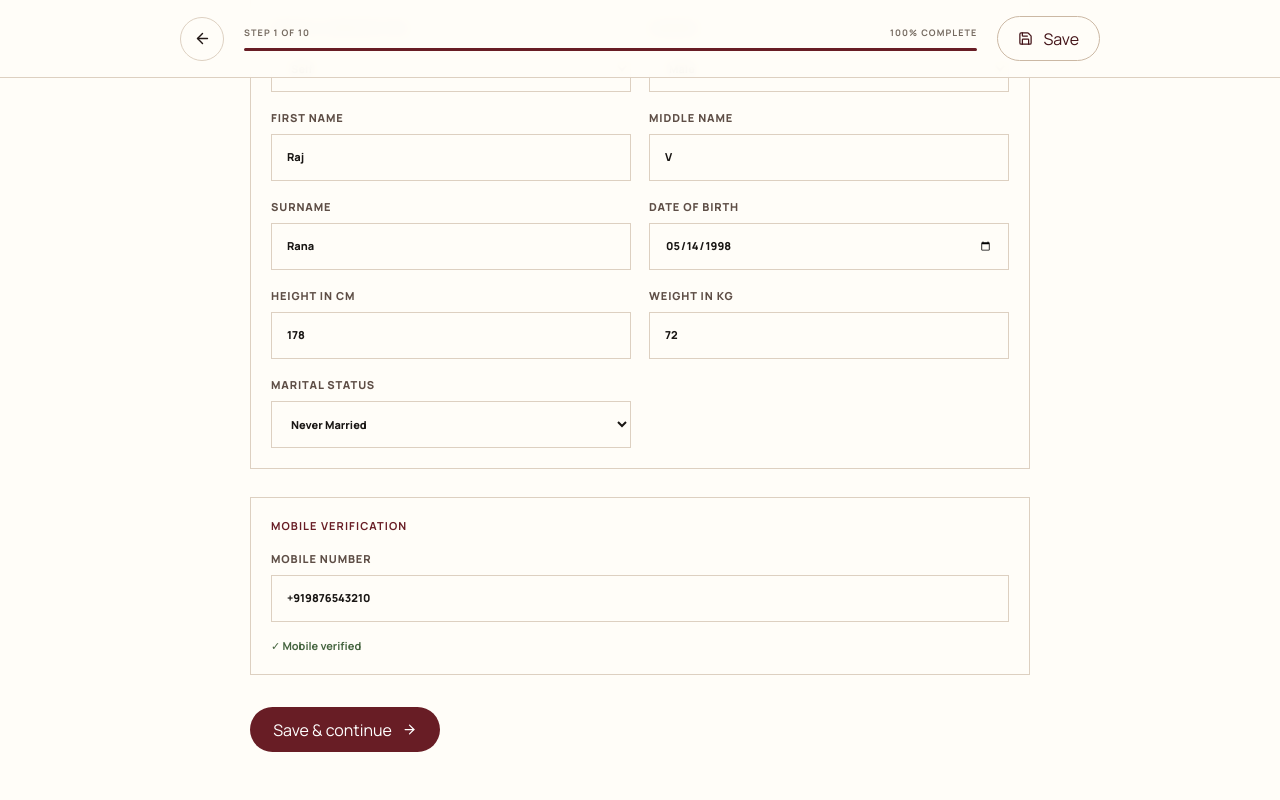
Test case: OnboardingPage profile flow › family and Mosal steps no longer render removed duplicate fields
The width and height of the screenshot is (1280, 800).
(page scrolled)
Click the button "Save & continue". click: (345, 730)
box: x1=250 y1=707 x2=440 y2=752
(page scrolled)
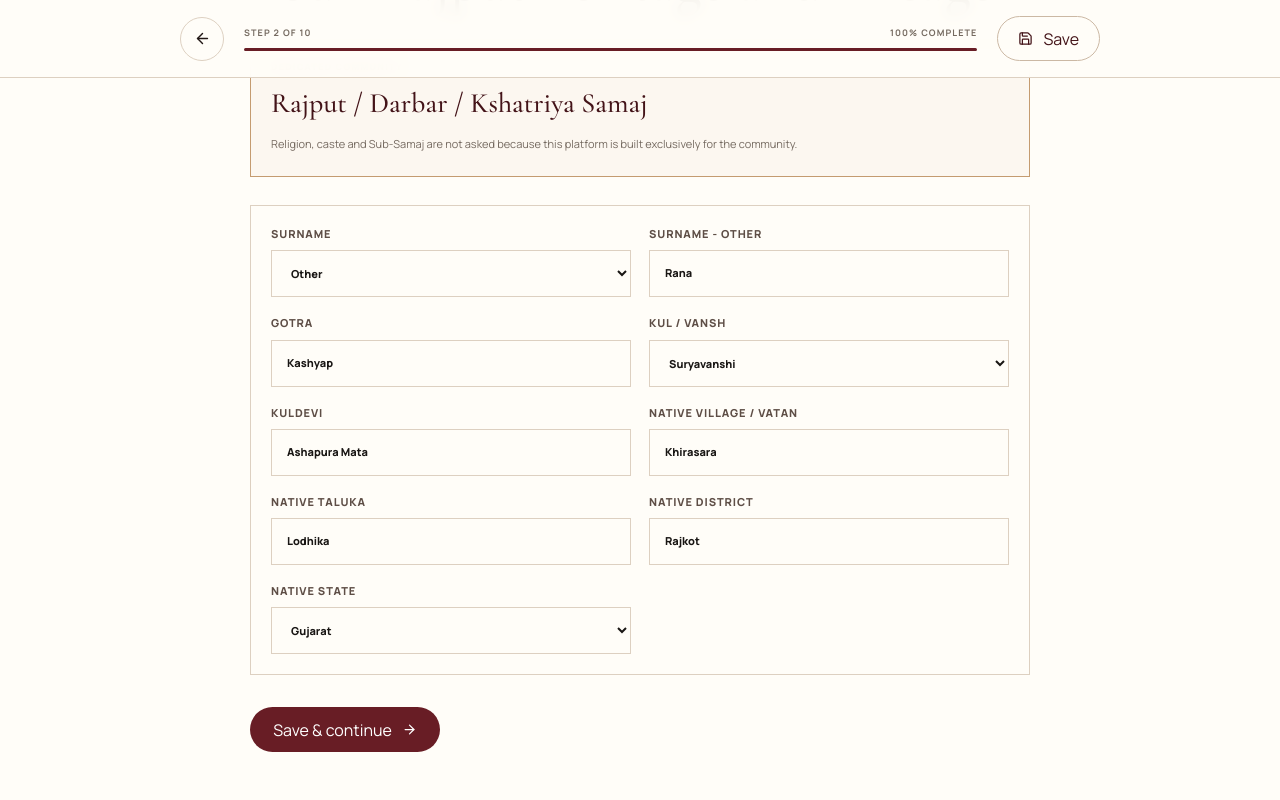
Click the button "Save & continue". click: (345, 730)
box: x1=250 y1=707 x2=440 y2=752
(page scrolled)
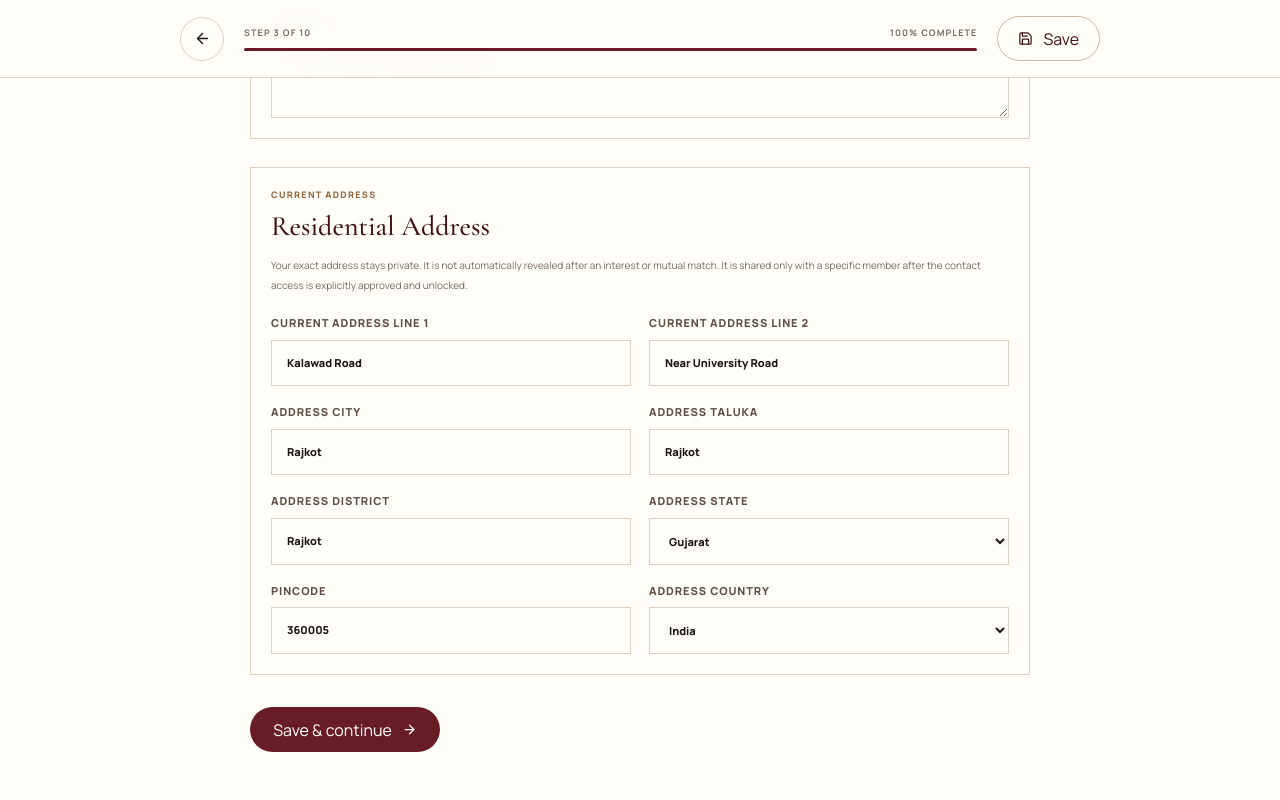
Click the button "Save & continue". click: (345, 730)
box: x1=250 y1=707 x2=440 y2=752
(page scrolled)
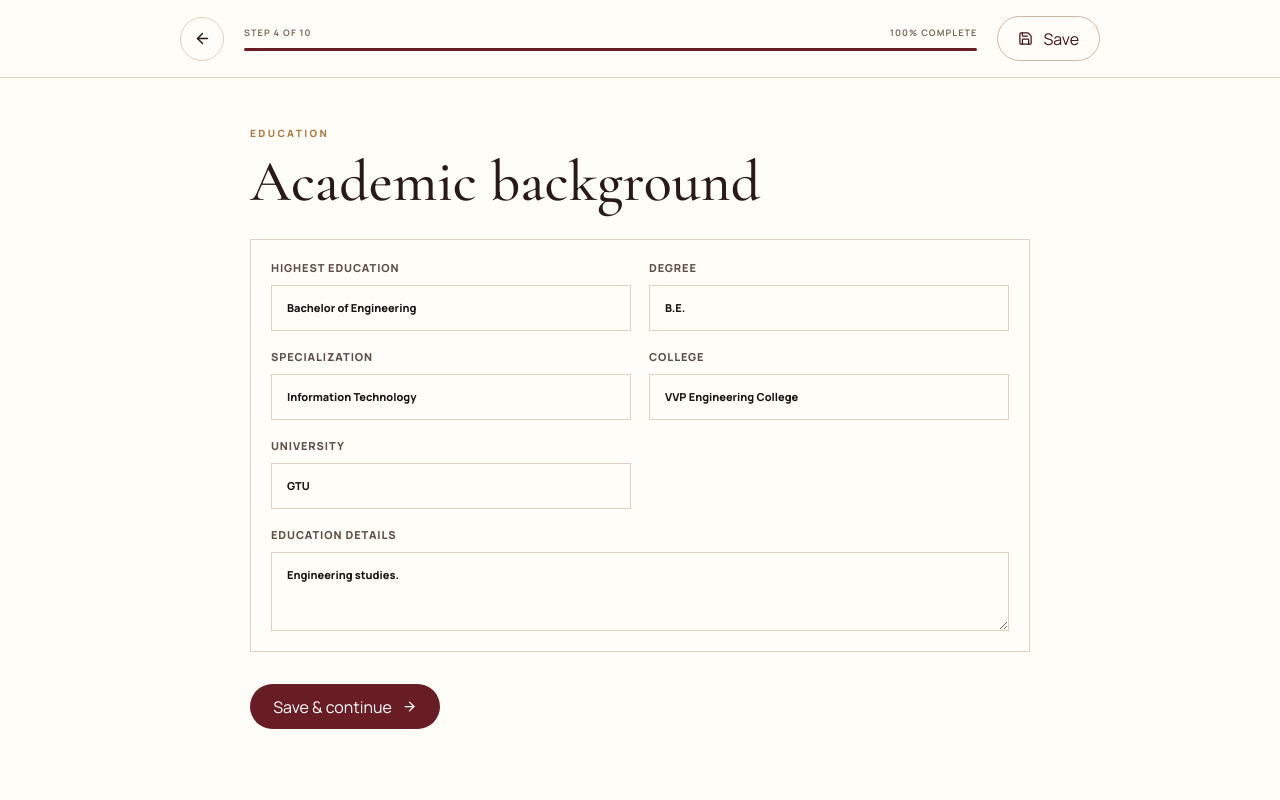
Click the button "Save & continue". click: (345, 706)
box: x1=250 y1=684 x2=440 y2=729
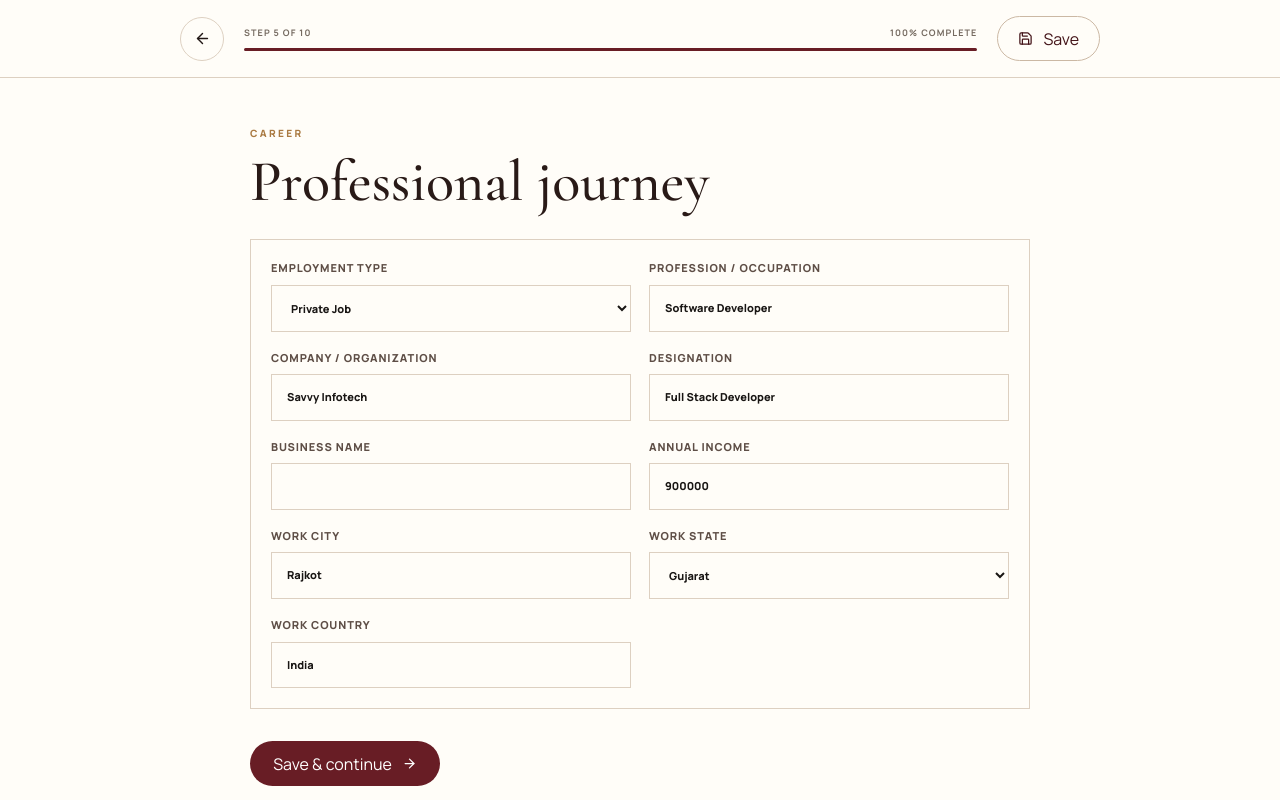
Click the button "Save & continue". click: (345, 764)
box: x1=250 y1=741 x2=440 y2=786
(page scrolled)
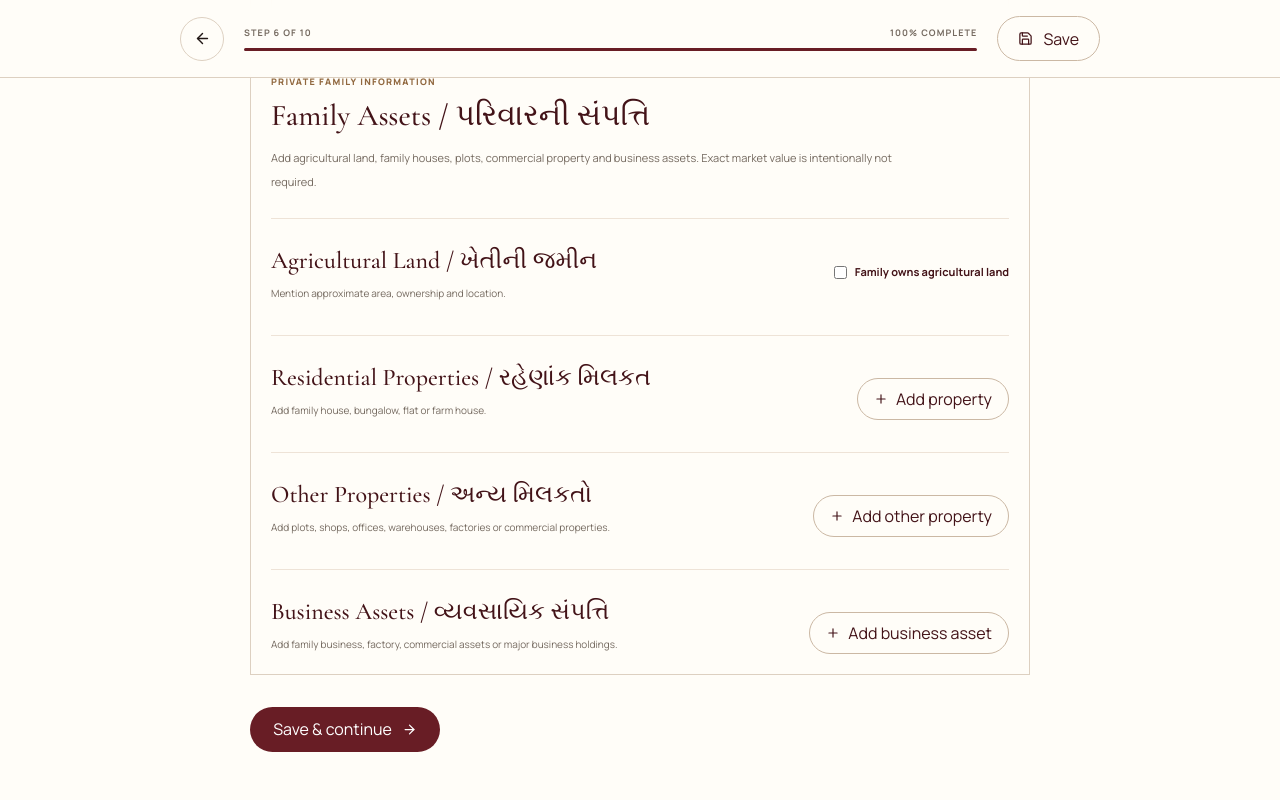
Click the button "Save & continue". click: (345, 729)
box: x1=250 y1=706 x2=440 y2=752
(page scrolled)
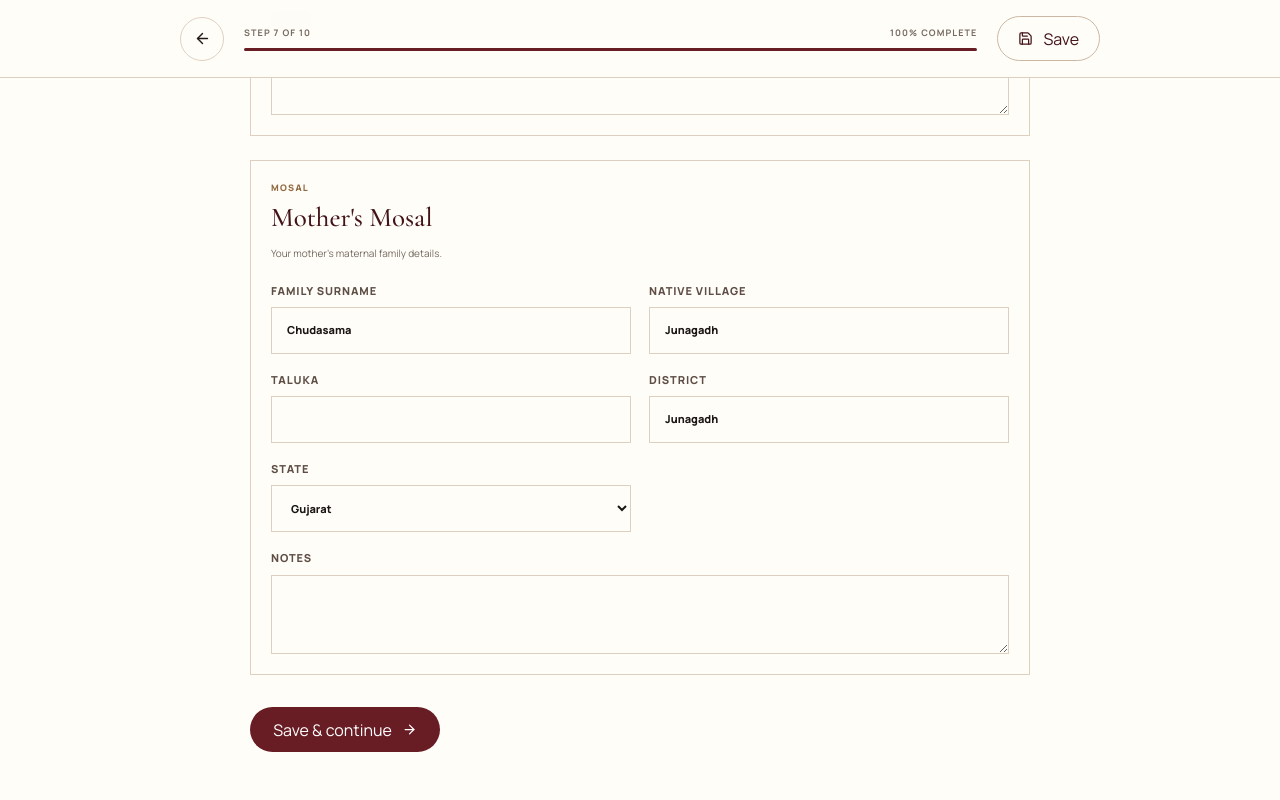
Check: the heading "Mother's Mosal" is shown, box x1=271 y1=201 x2=432 y2=234
